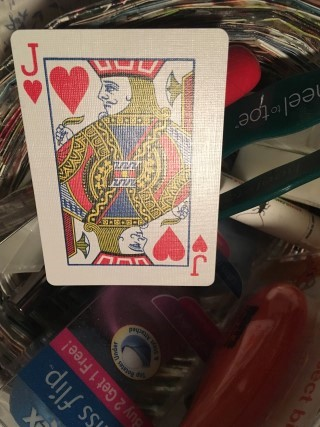JackOfHearts: (10, 28, 231, 287)
